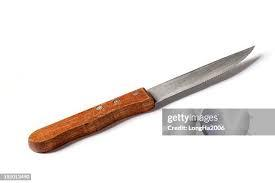Knife: (27, 44, 260, 153)
